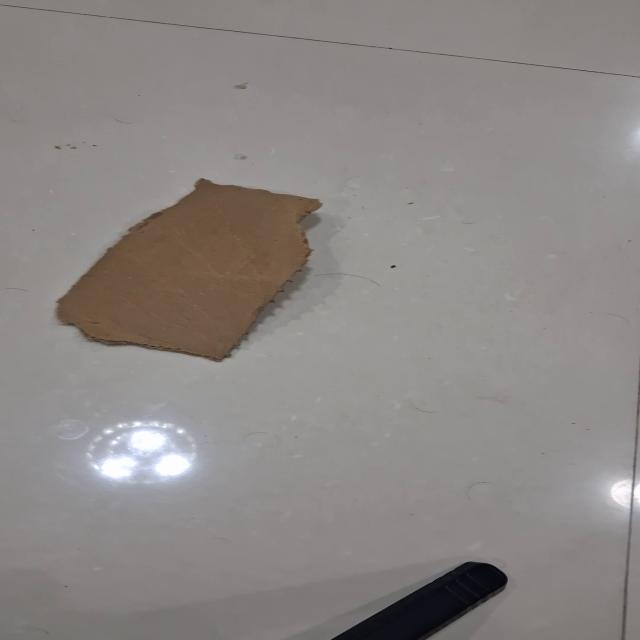paper: (54, 177, 323, 363)
